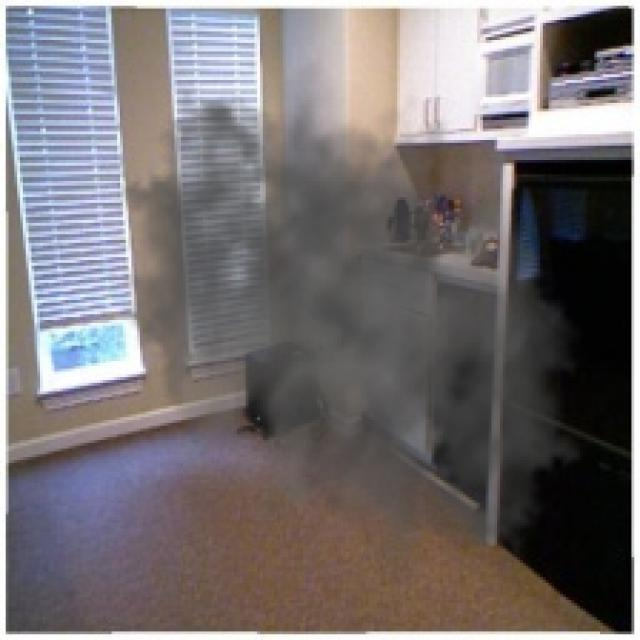Smoke: (85, 57, 618, 589)
